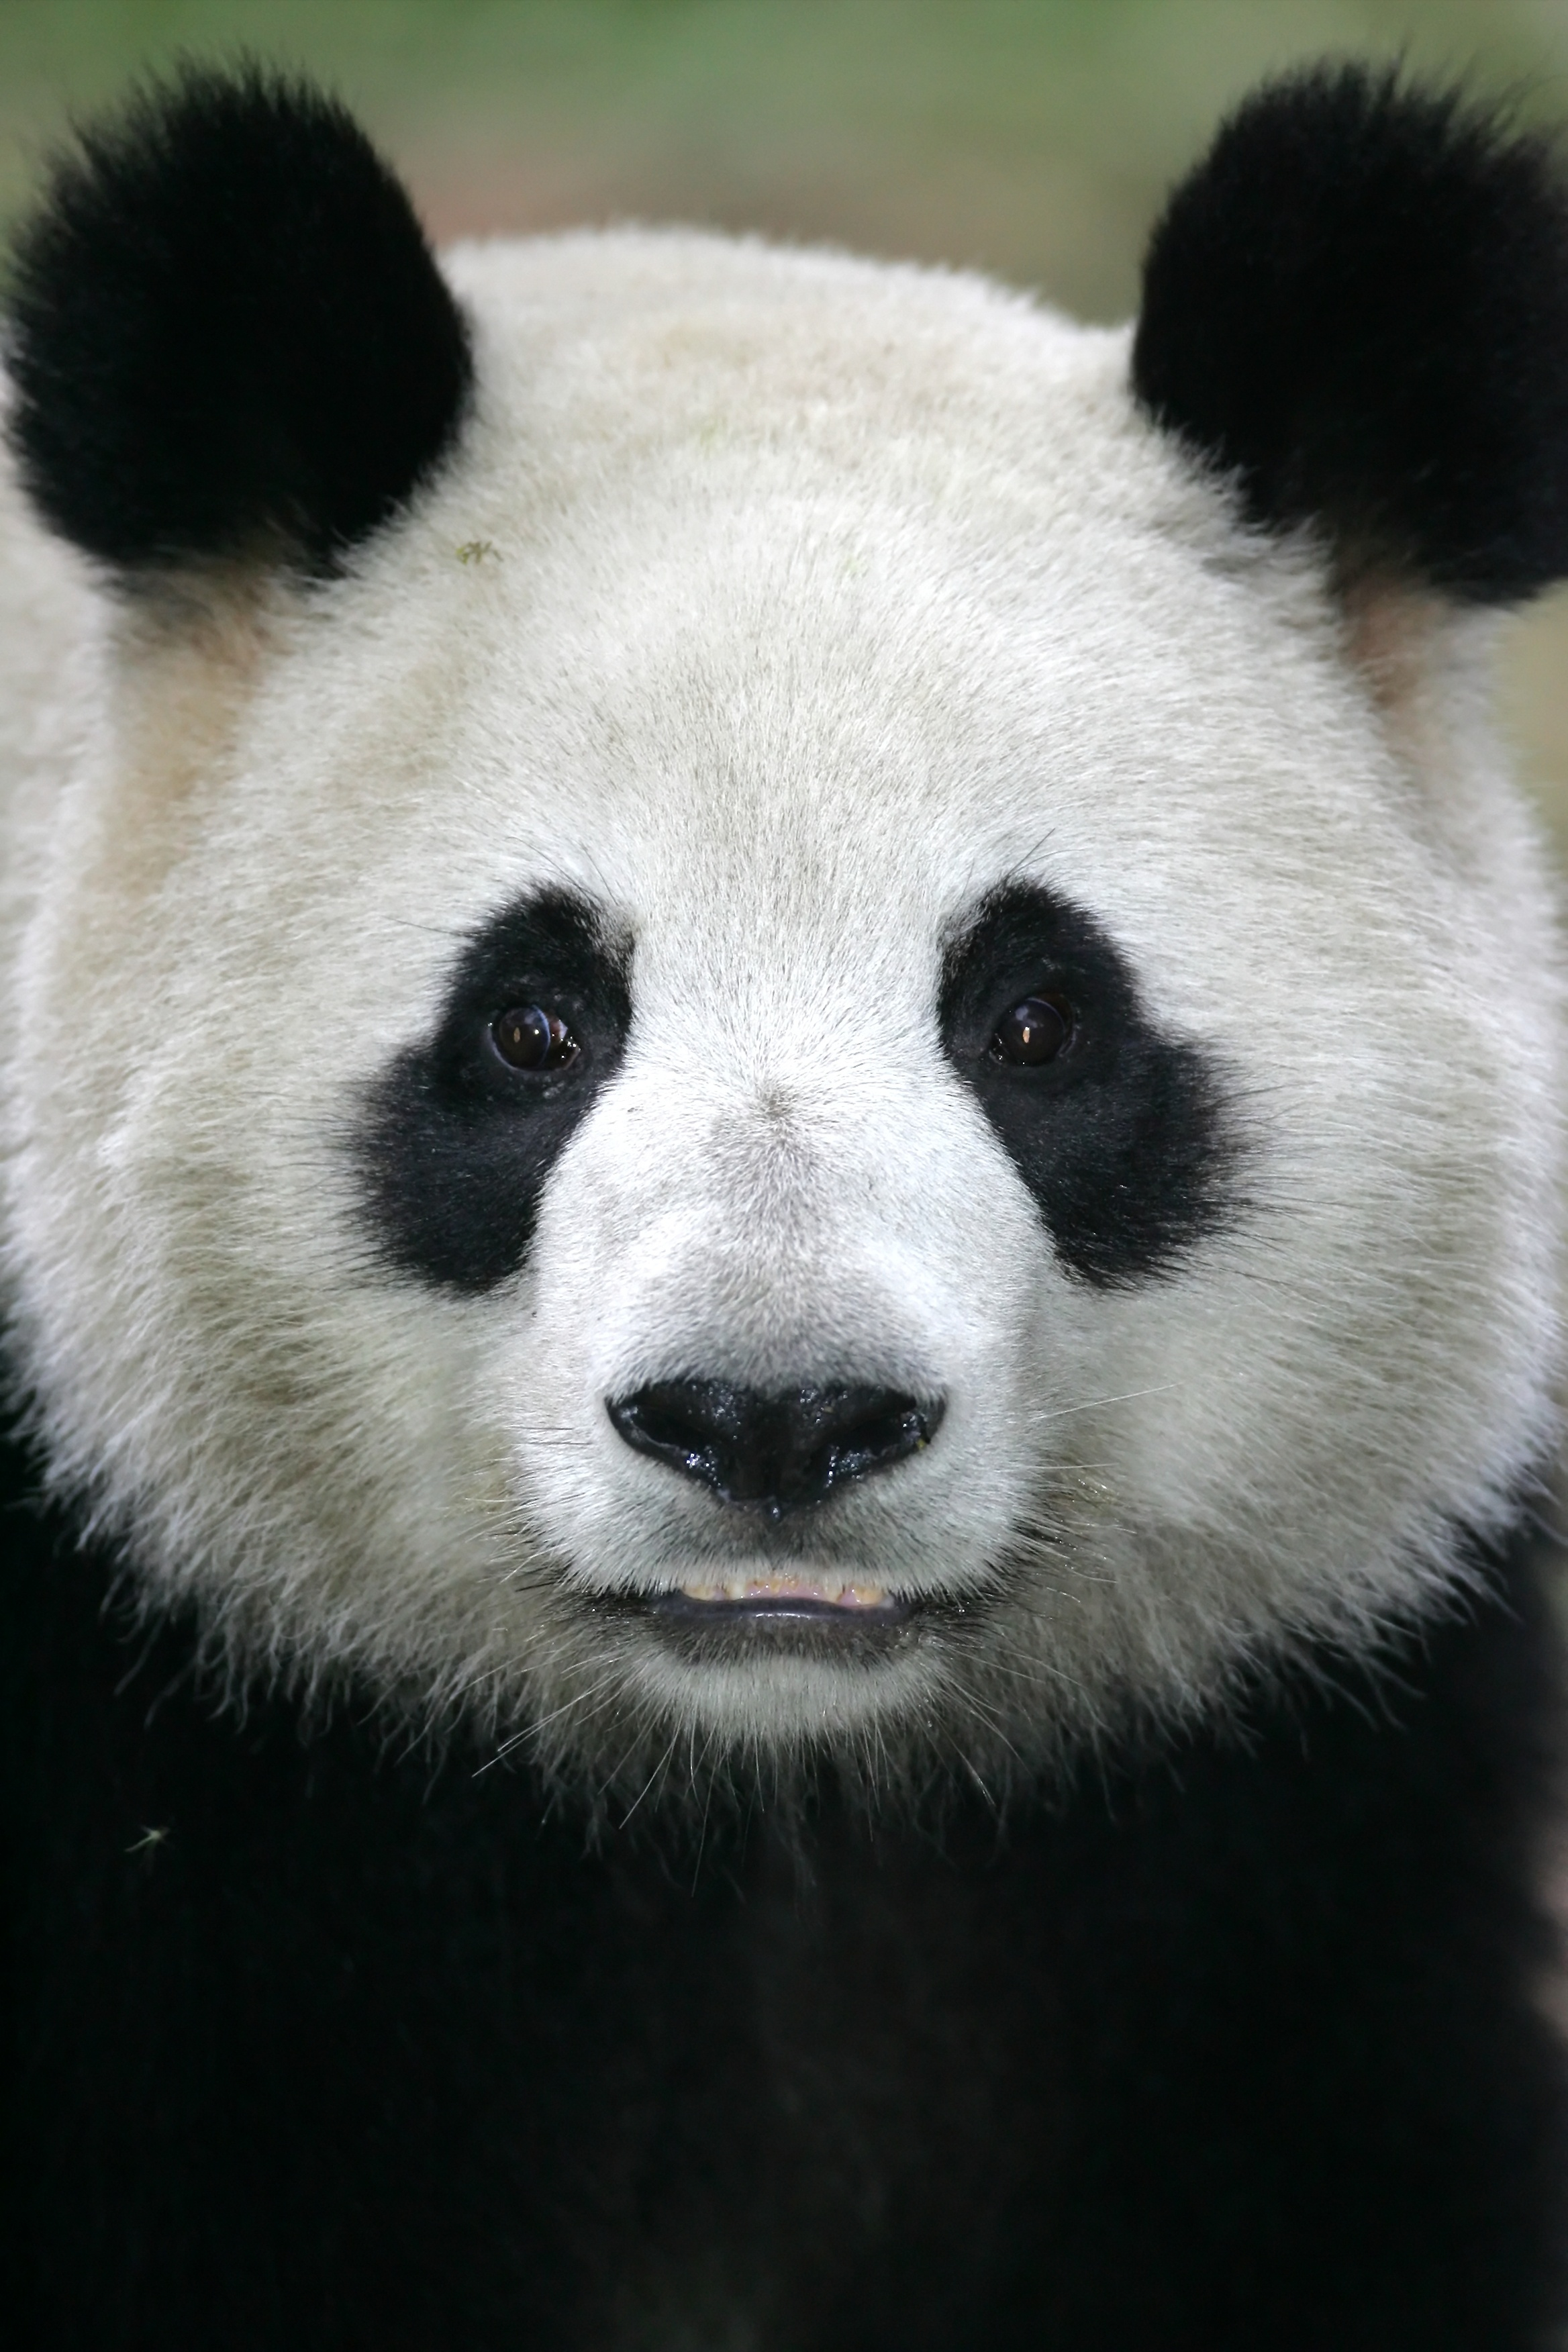panda: (17, 56, 1558, 2158)
